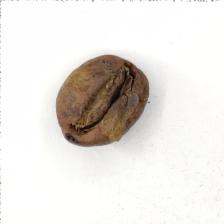NG: (66, 58, 146, 141)
